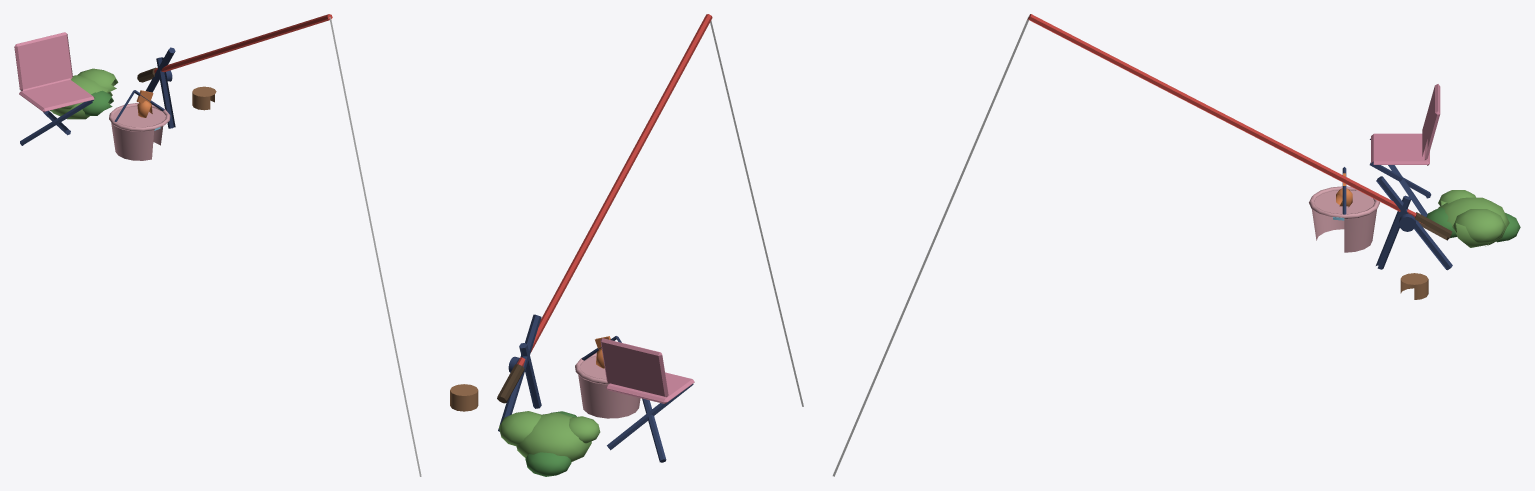
The model's file is ac_fishspot.glb.
The picture shows the model from 3 angles, left to right: view 1: azimuth 30°, elevation 25°; view 2: azimuth 150°, elevation 25°; view 3: azimuth 270°, elevation 25°; orthographic projection. The views are drawn at different scales.
Visible parts, largest first — view 1: body; view 2: body; view 3: body.
Boxes of the visible parts, box(x1,y1,x2,y2) form: body: box(14, 14, 421, 476); body: box(450, 14, 803, 476); body: box(832, 14, 1520, 476).
Size of the model in its own units: 1.8 by 3.62 by 4.92.
